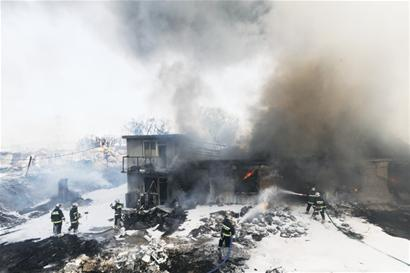smoke: (242, 55, 393, 193)
